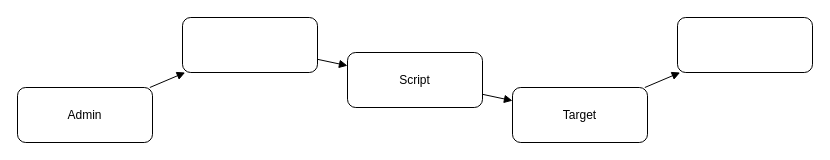
The diagram is 830 pixels wide and 160 high, and some of its shapes have lost their labels. Each missing label, with the centre of its shape:
"Device" goes at point (744, 44).
"RBAC" goes at point (250, 44).
